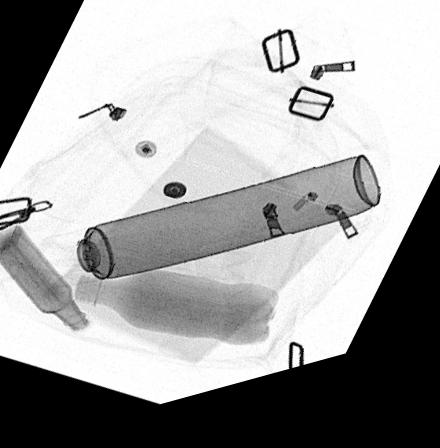Sprayer: (40, 172, 382, 289)
